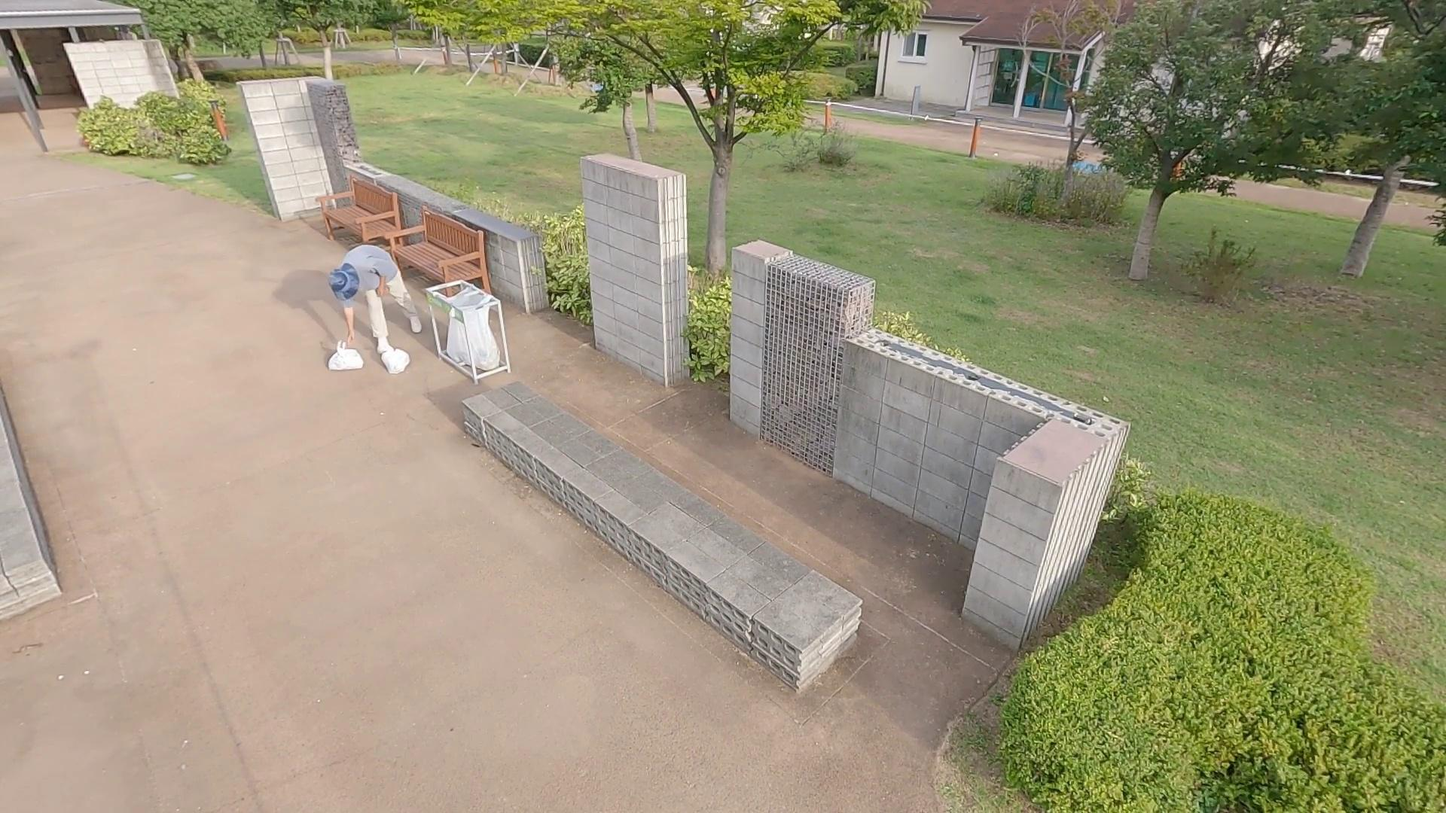person: (327, 244, 426, 356)
trash: (325, 340, 364, 376), (375, 344, 412, 378)
